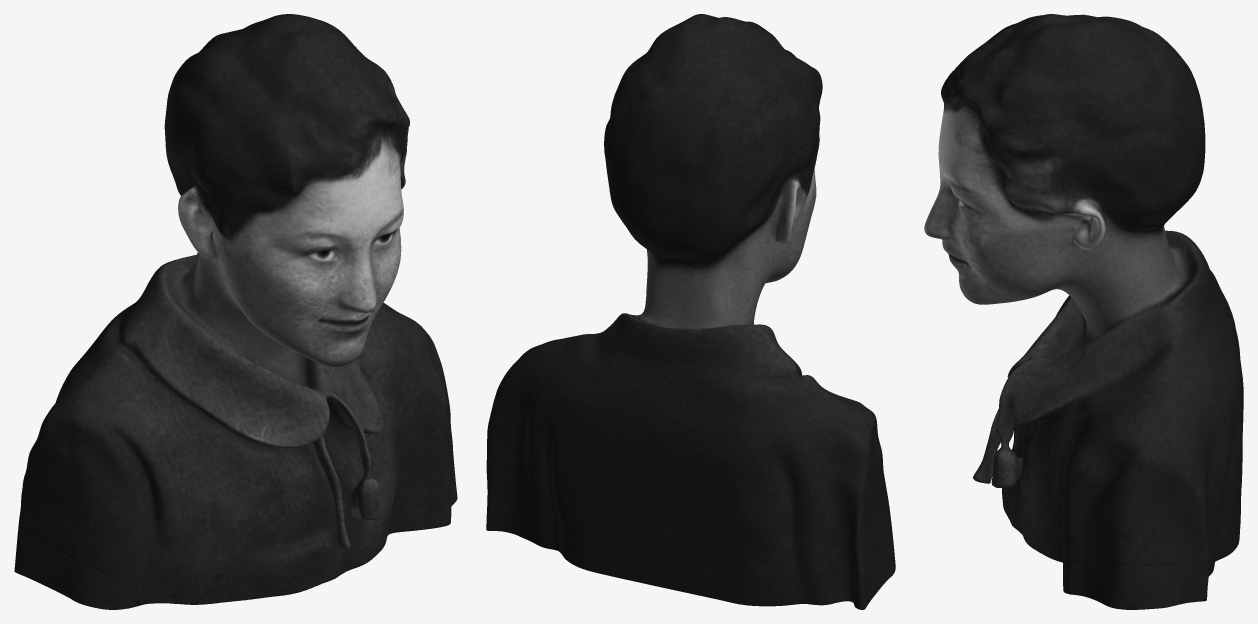
The picture shows the model from 3 angles, left to right: view 1: azimuth 30°, elevation 25°; view 2: azimuth 150°, elevation 25°; view 3: azimuth 270°, elevation 25°; orthographic projection. The views are drawn at different scales.
Bounding box in the file's own units: 1.54 × 1.9 × 1.09.
1 material, 1 textured.
